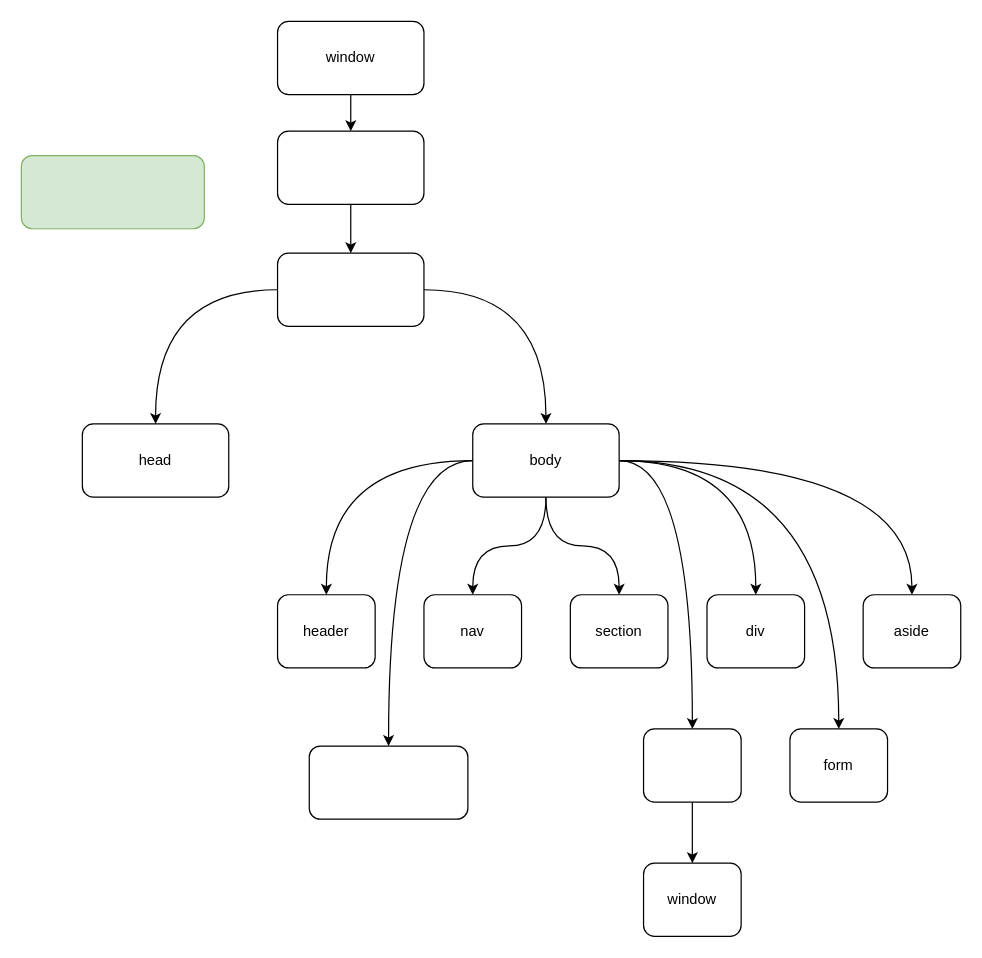
Some shapes in this 982 by 958 pixel diagram are drawn without their labels. Here are the shapes that lost their labels. From the top down, the centre of each, then its label:
(350,167): document
(112,191): DOM Document Object Model
(350,289): html
(388,782): h1 .. h6, p, qualquer elemento html
(691,765): iframe
